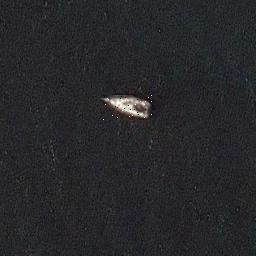boat: (102, 95, 154, 120)
